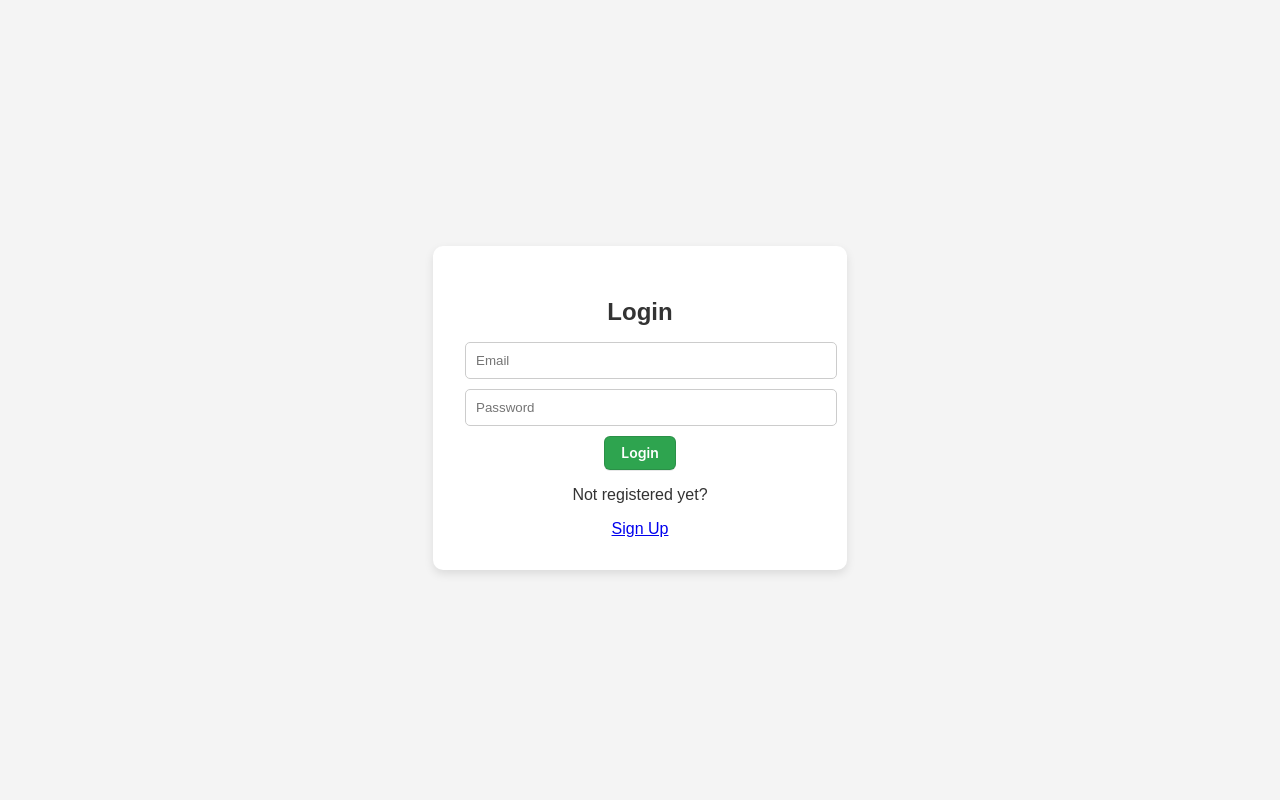
Login Component Error Handling › displays error when email and/or password is missing
Click the button "Login": [640, 453] box left=604, top=436, right=676, bottom=470
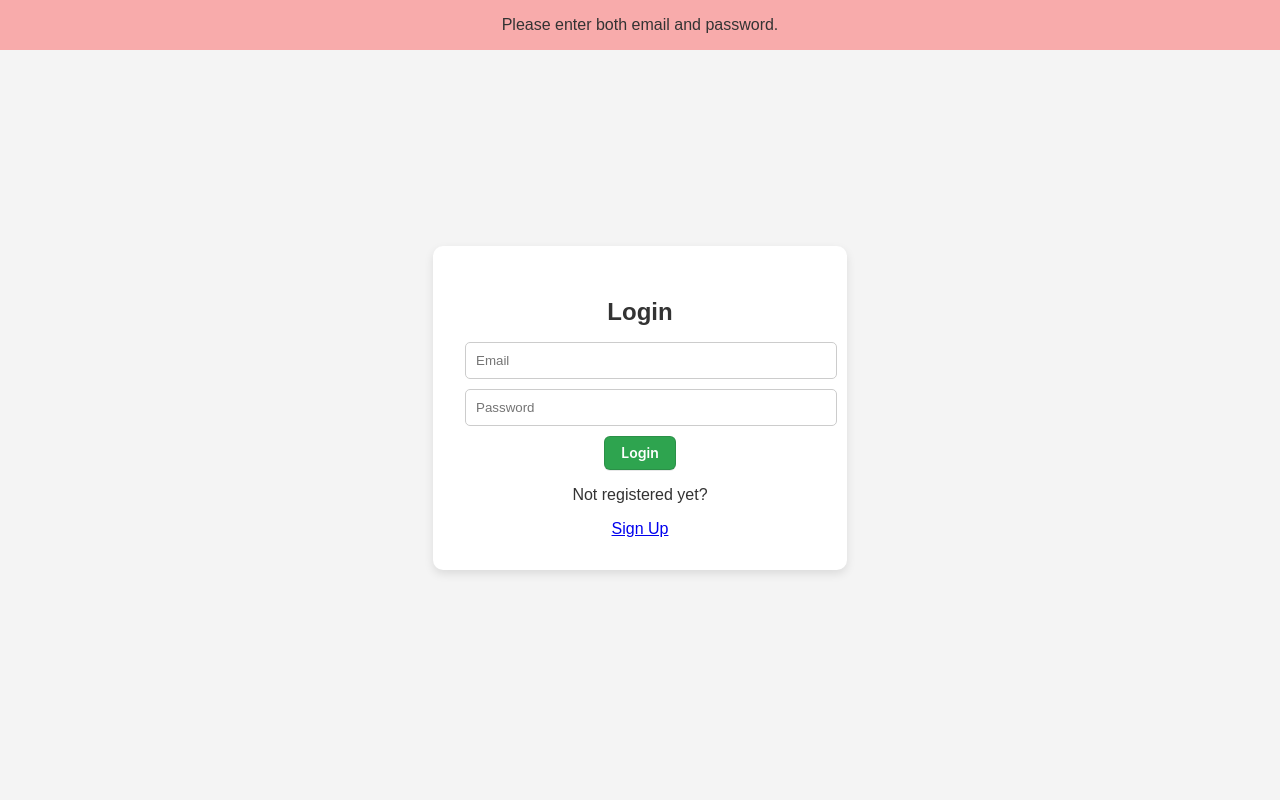
Now the text "Please enter both email and password." is shown, box left=502, top=16, right=778, bottom=33
